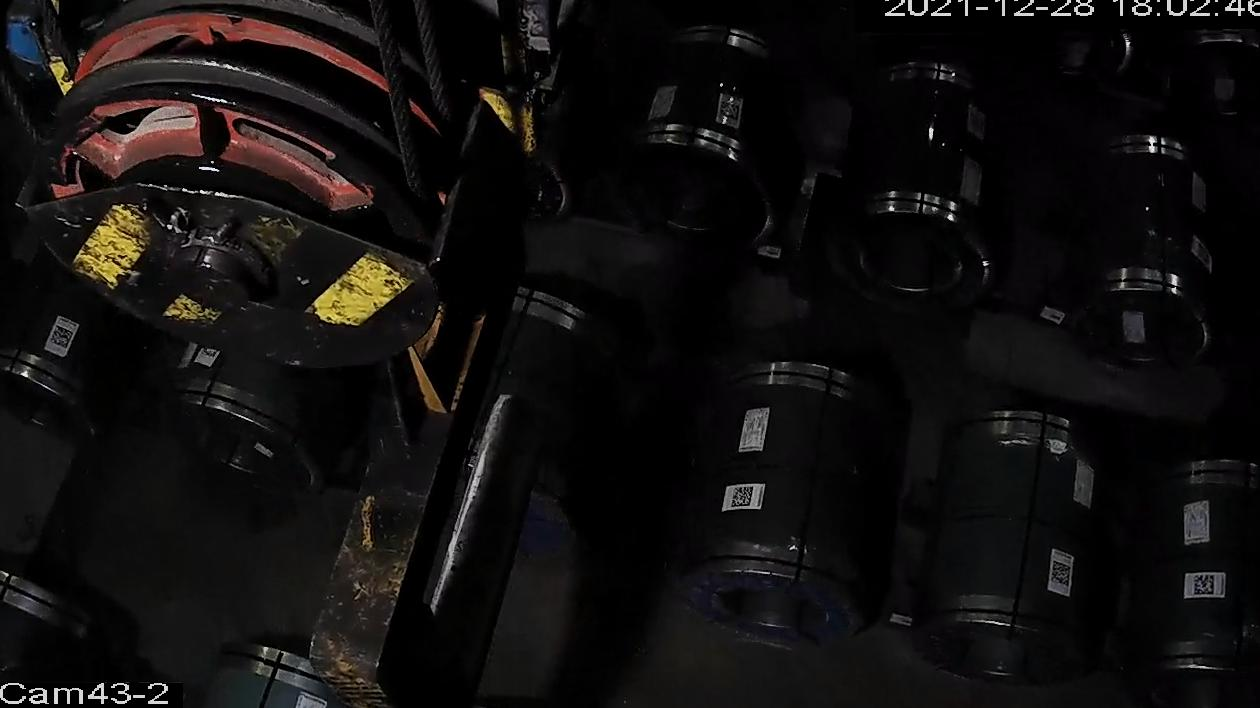data matrix: (48, 324, 76, 351), (1050, 560, 1073, 589), (731, 486, 756, 510), (1193, 574, 1218, 598), (719, 100, 742, 123)
